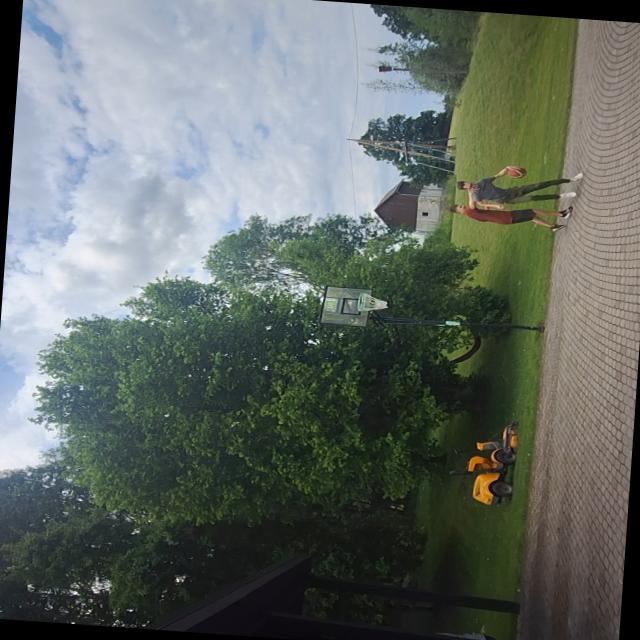ball: (502, 164, 527, 179)
hoop: (351, 288, 388, 314)
player: (446, 160, 582, 210), (442, 196, 574, 234)
